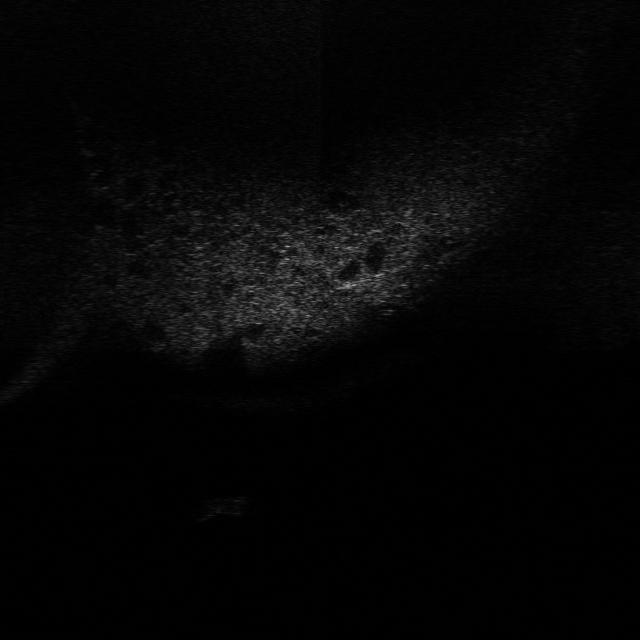cube: (197, 491, 254, 522)
